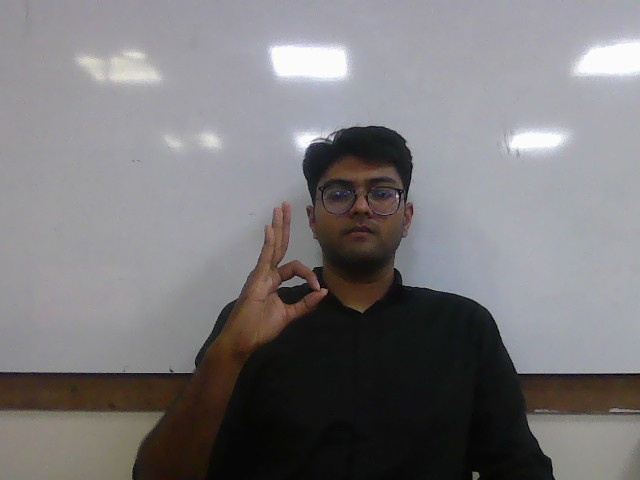Shundor: (236, 198, 329, 352)
